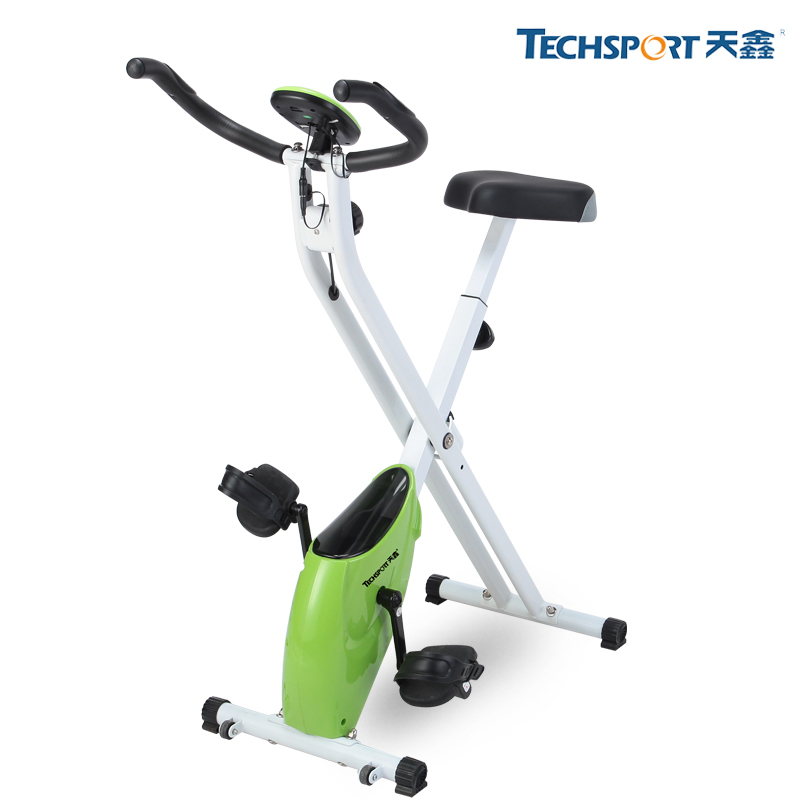gym_bike: (115, 52, 645, 780)
